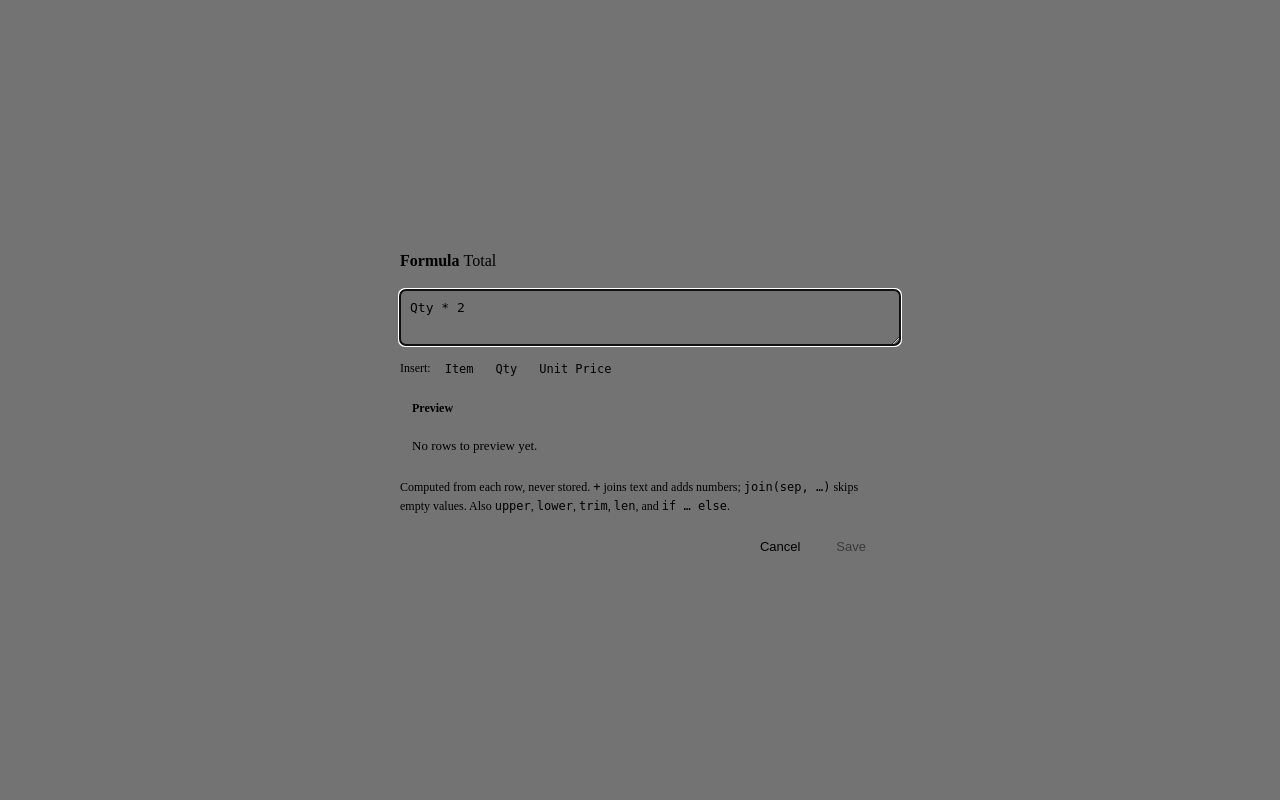
Scenario: FormulaEditorModal › blocks saving a formula that fails on every row, and says why
Replace the text in the text box named "Formula" with "Qty * (". click: coordinates (650, 317)
box: [400,290,900,345]
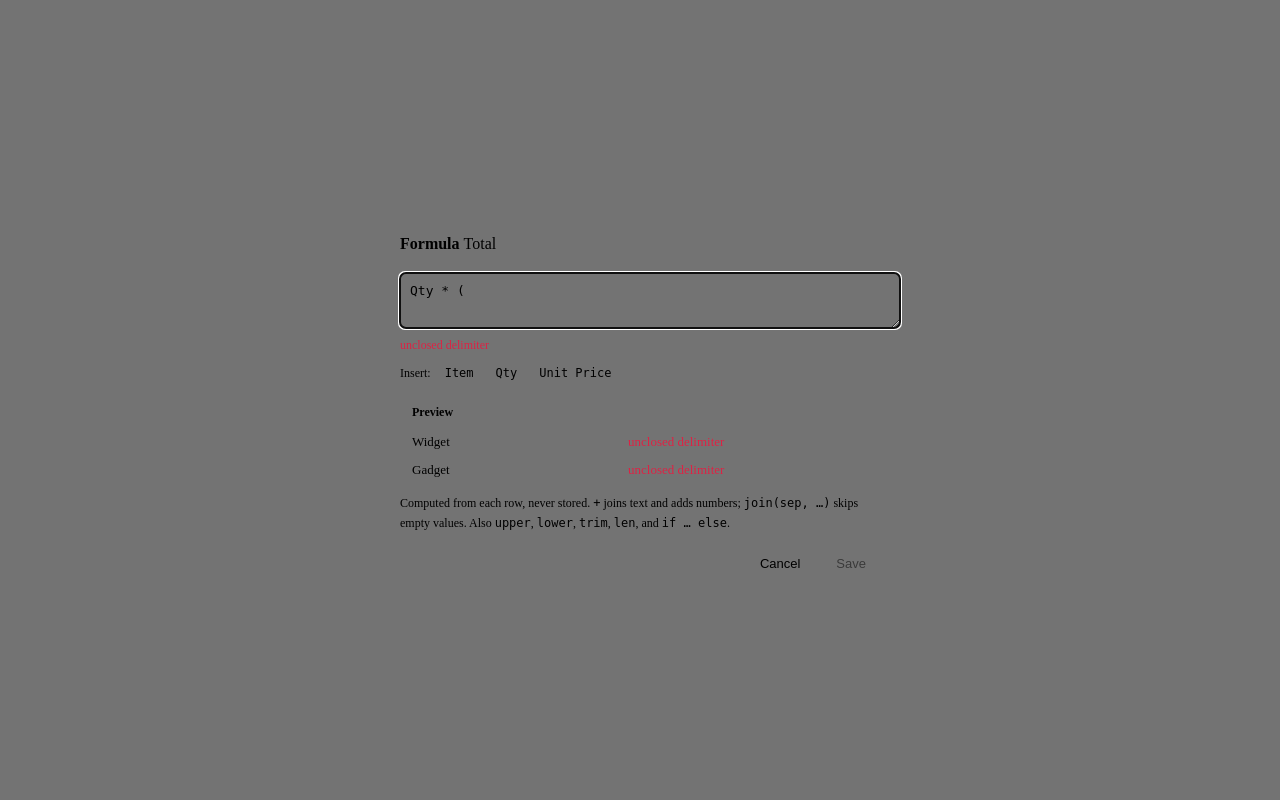
Check: the button "Save" is disabled, box [822,549,880,578]
Check: the message reads "unclosed delimiter", box [400,338,489,352]
